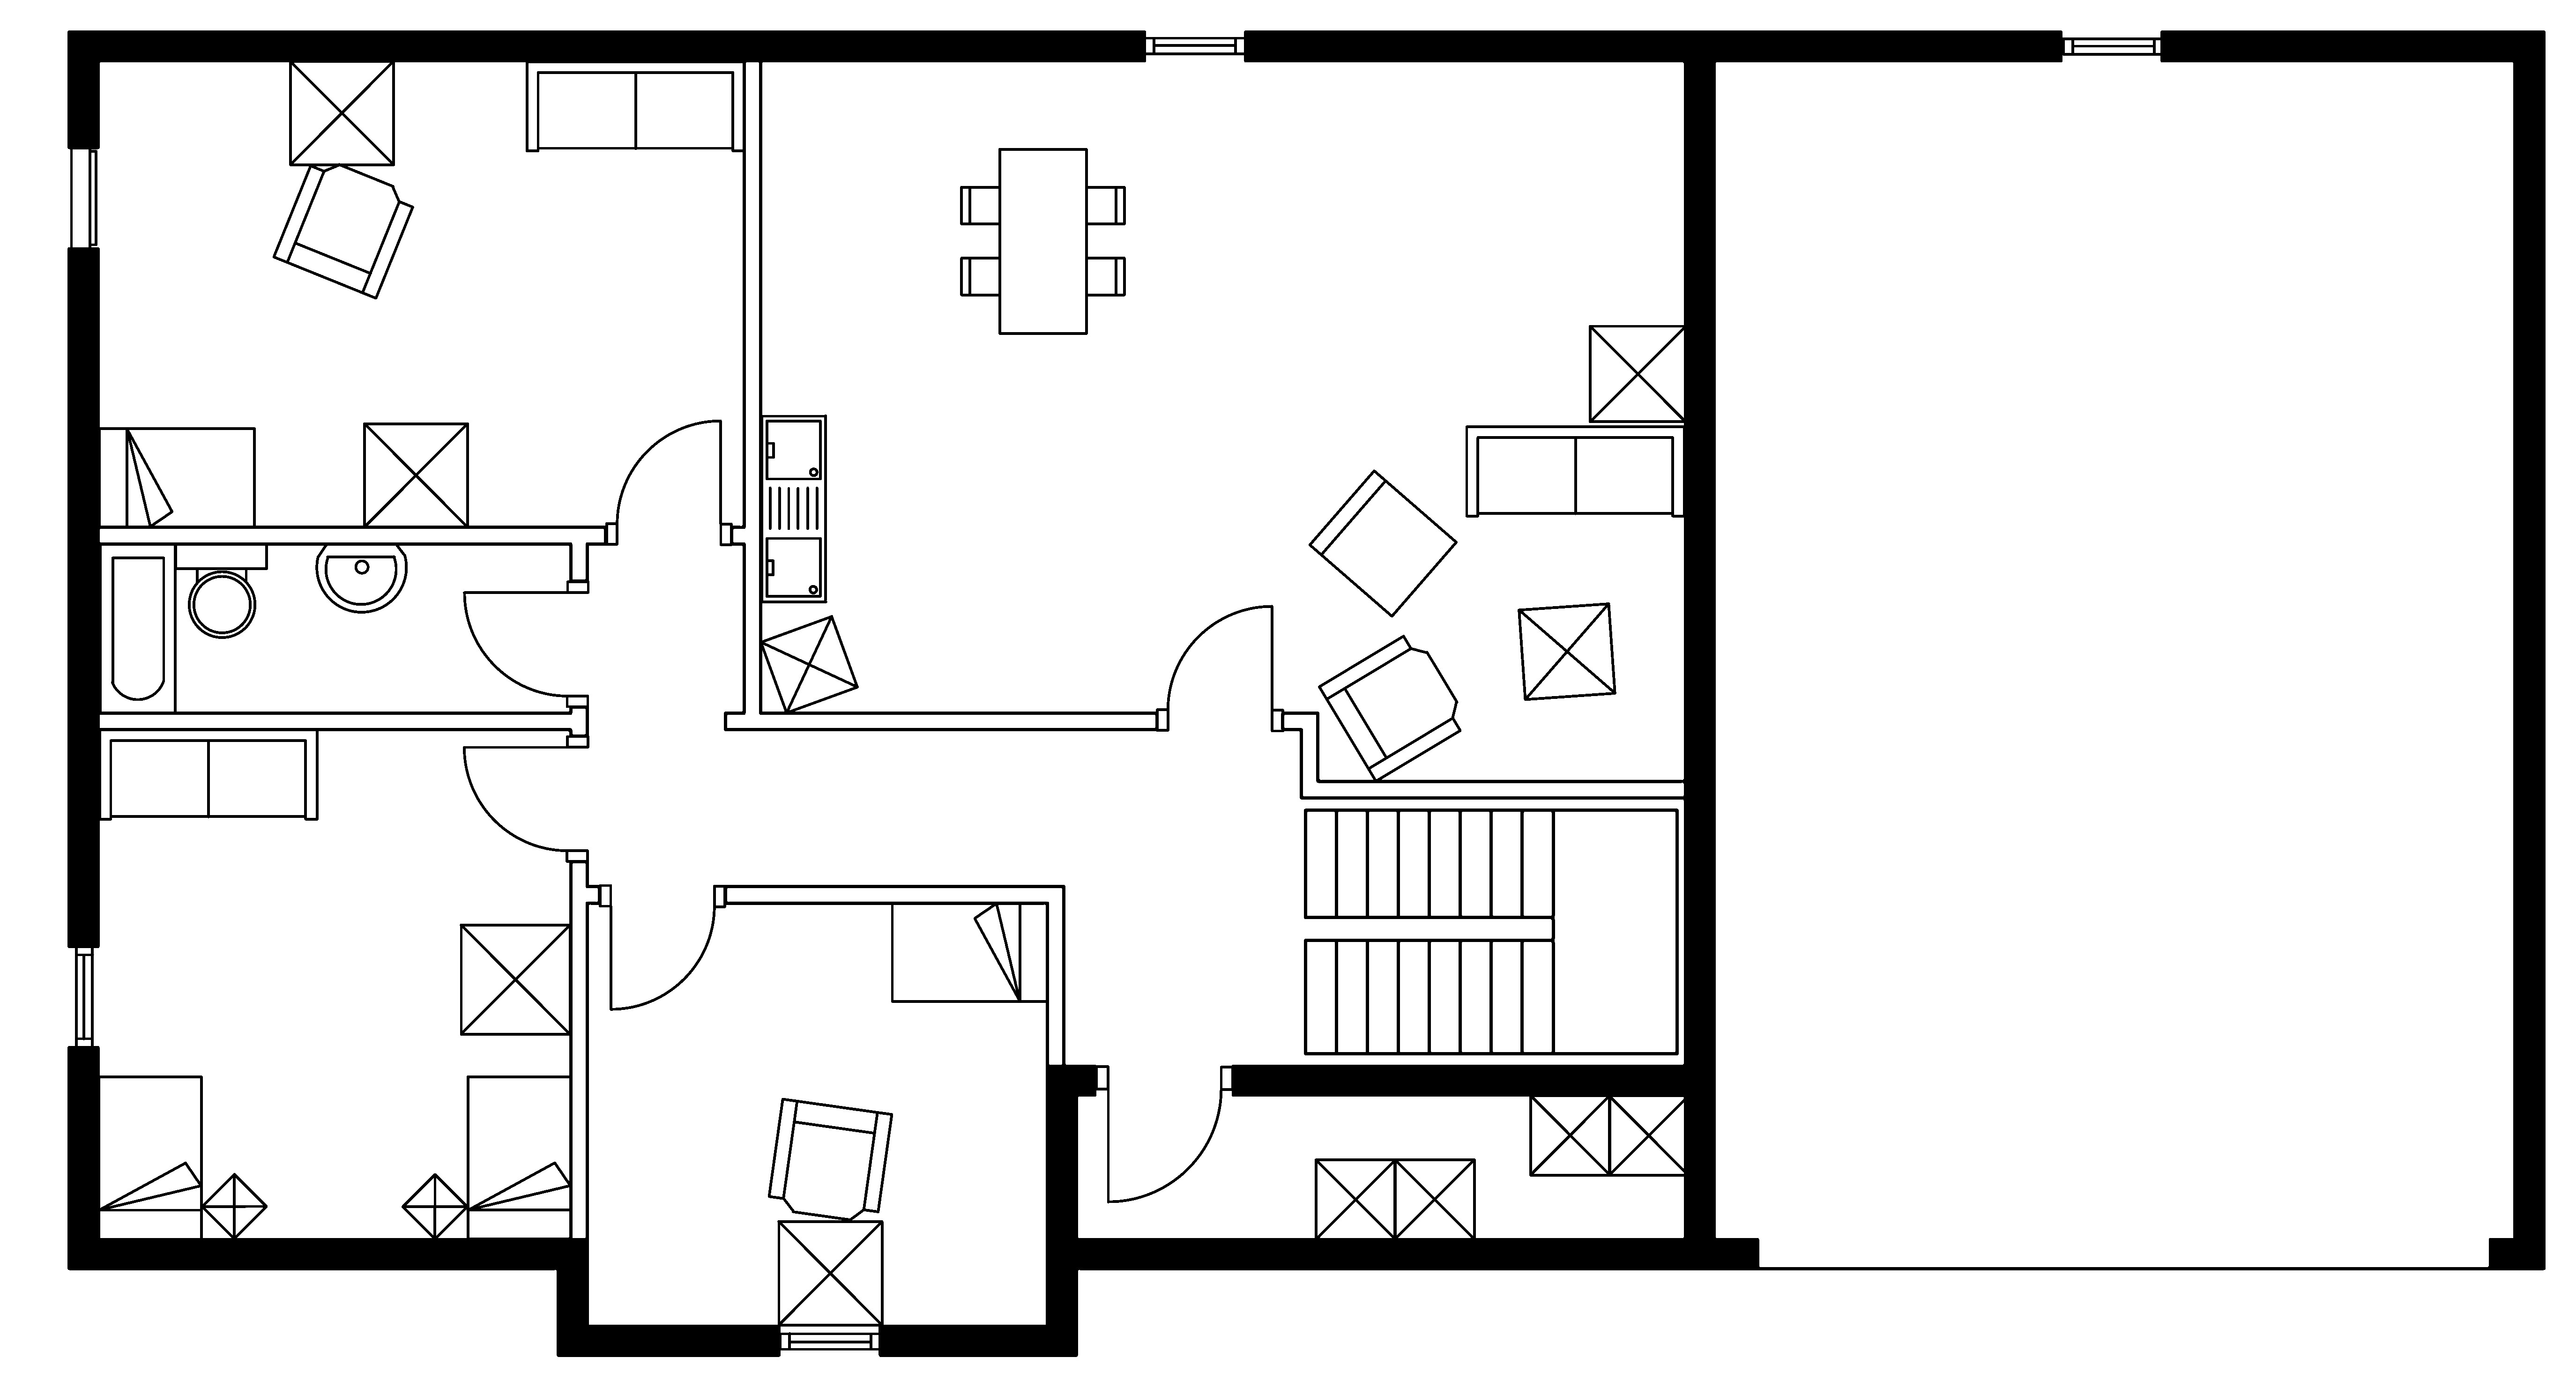armchair: (1317, 634, 1462, 782), (272, 162, 415, 301), (767, 1097, 893, 1221)
bed: (96, 1074, 203, 1240), (465, 1074, 572, 1240), (97, 425, 256, 530), (890, 900, 1049, 1003)
coffee_table: (458, 922, 572, 1035), (362, 422, 470, 530), (287, 58, 395, 166), (776, 1220, 883, 1327), (758, 613, 859, 714), (1587, 323, 1688, 424), (1517, 601, 1616, 702), (1527, 1093, 1613, 1177), (1392, 1156, 1476, 1240), (1314, 1156, 1397, 1240), (1607, 1093, 1691, 1177), (400, 1172, 470, 1240), (200, 1172, 268, 1240)
dining_table: (958, 147, 1126, 335)
large_sink: (173, 541, 268, 639)
large_sofa: (1464, 424, 1686, 518), (97, 728, 319, 820), (524, 60, 746, 152)
small_sink: (316, 541, 407, 613)
small_sofa: (1307, 468, 1459, 618)
tub: (97, 541, 178, 714)
twin_sink: (758, 413, 828, 603)
